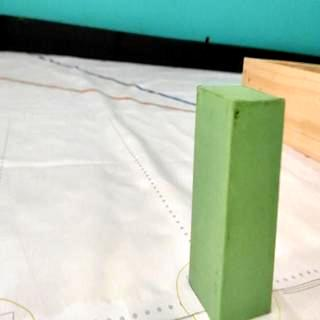greenbox: (188, 83, 285, 320)
